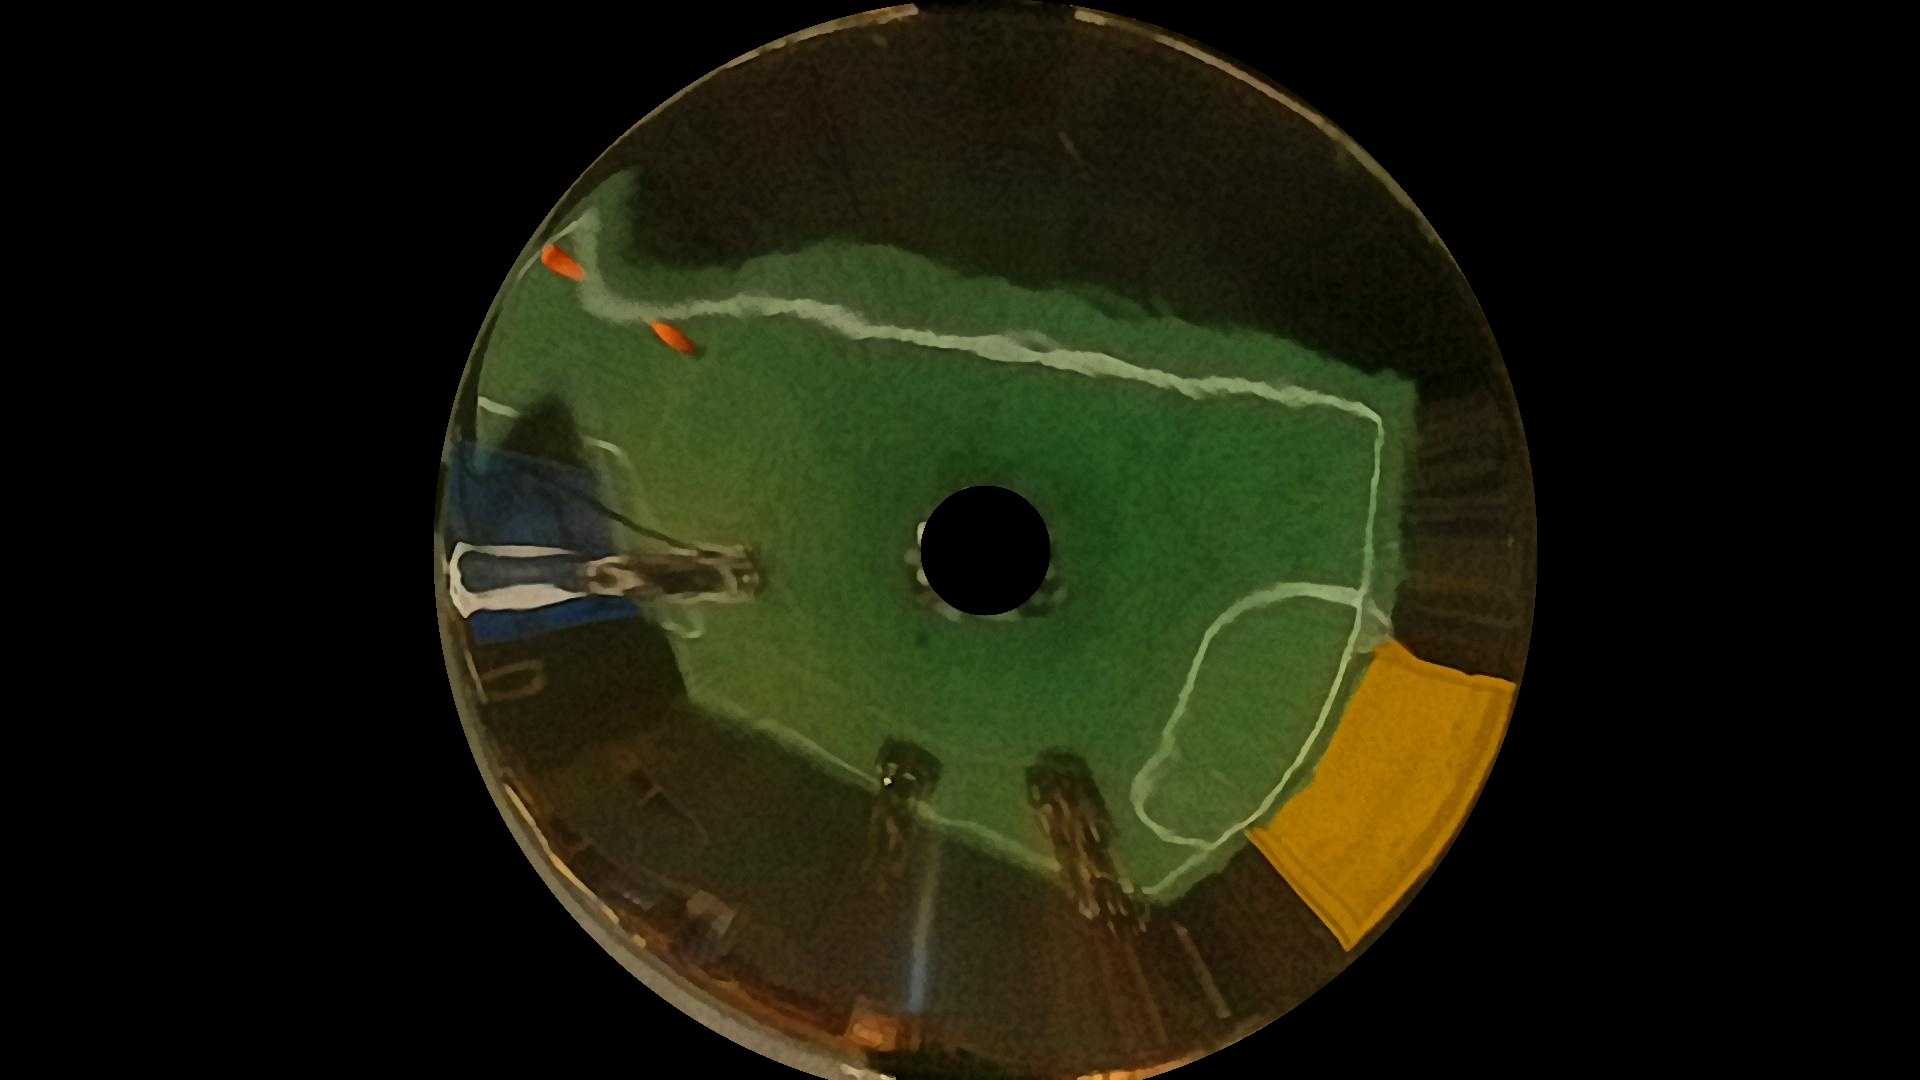ball: (638, 313, 703, 357)
blue-goal: (447, 438, 608, 628)
robots: (1005, 758, 1183, 995), (820, 732, 945, 933), (482, 537, 792, 610)
yellow-goal: (1273, 613, 1463, 917)
